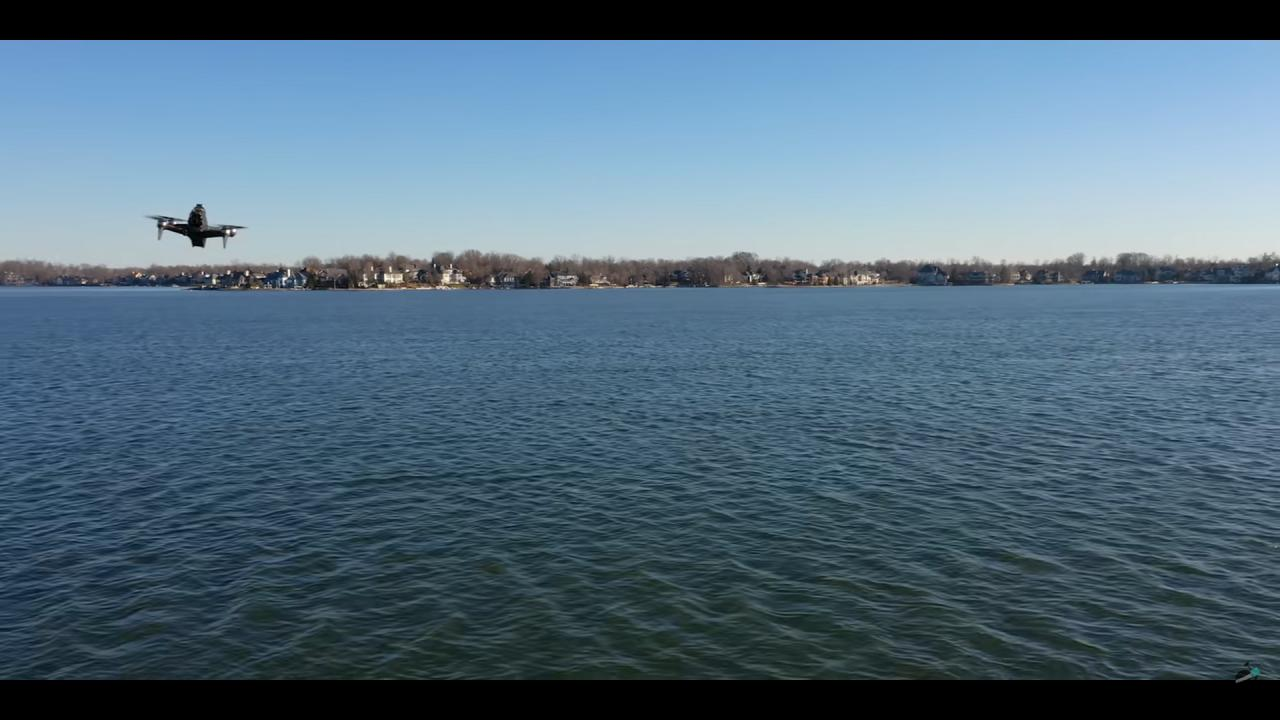Drone: (134, 194, 255, 266)
